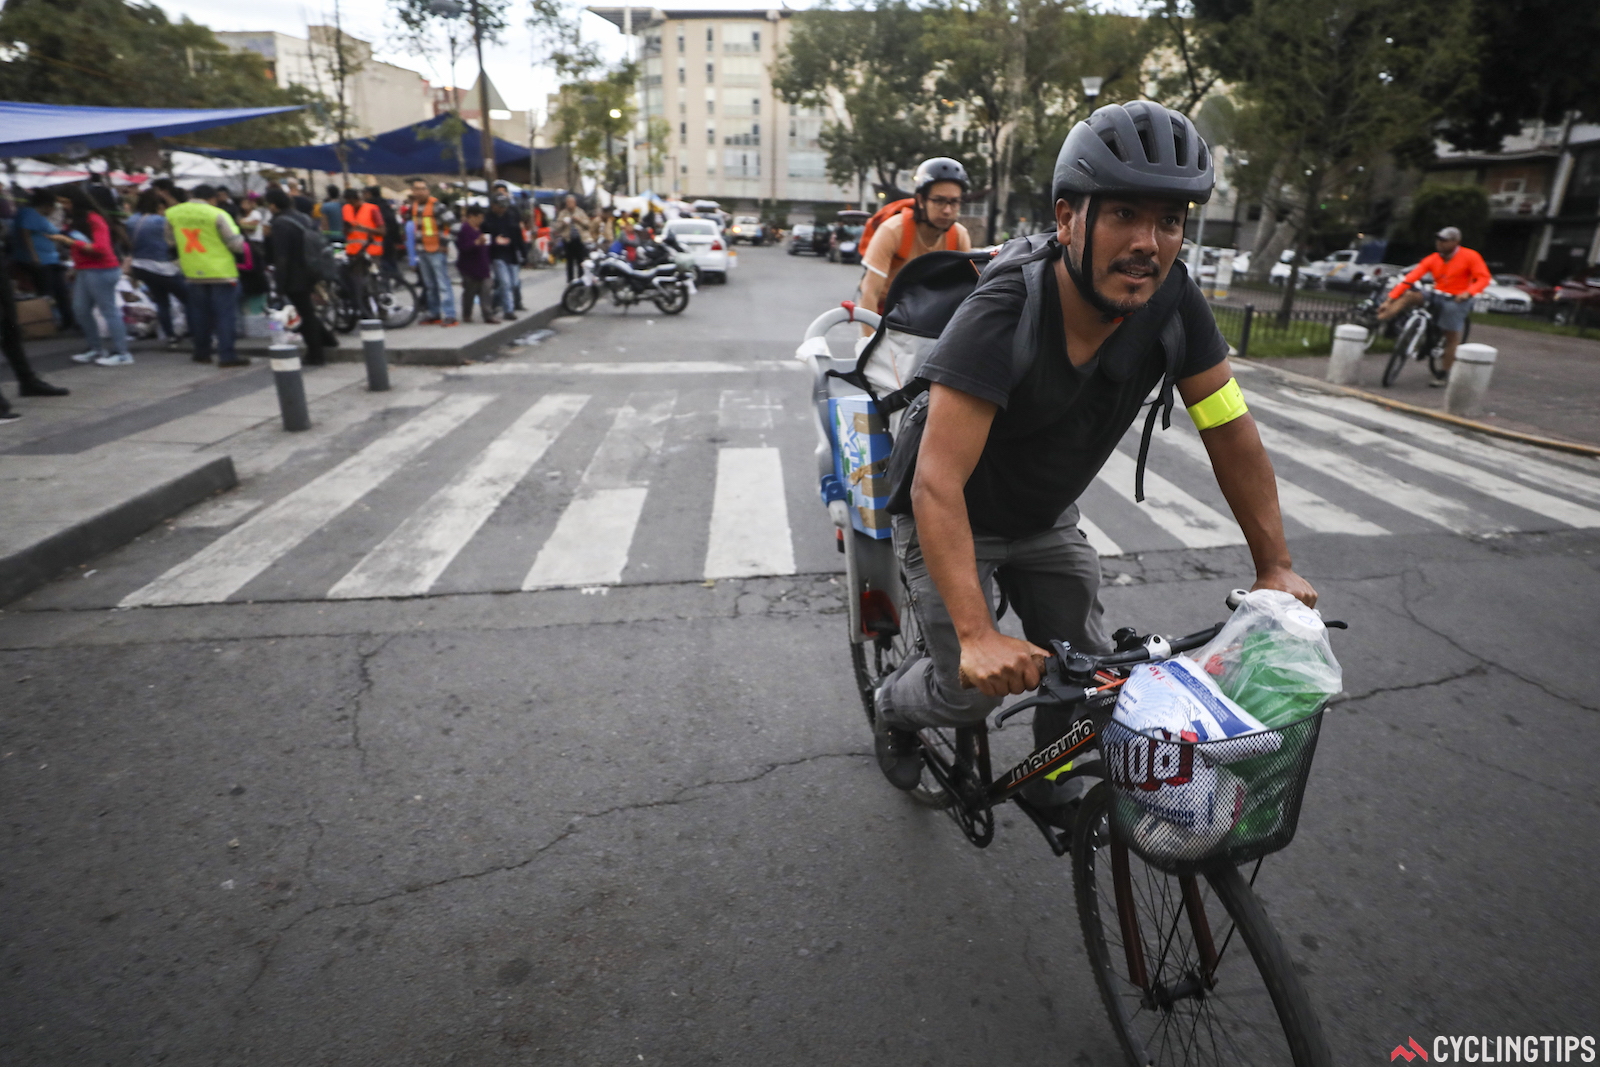commuter: (836, 102, 1348, 1067), (1386, 231, 1495, 401)
